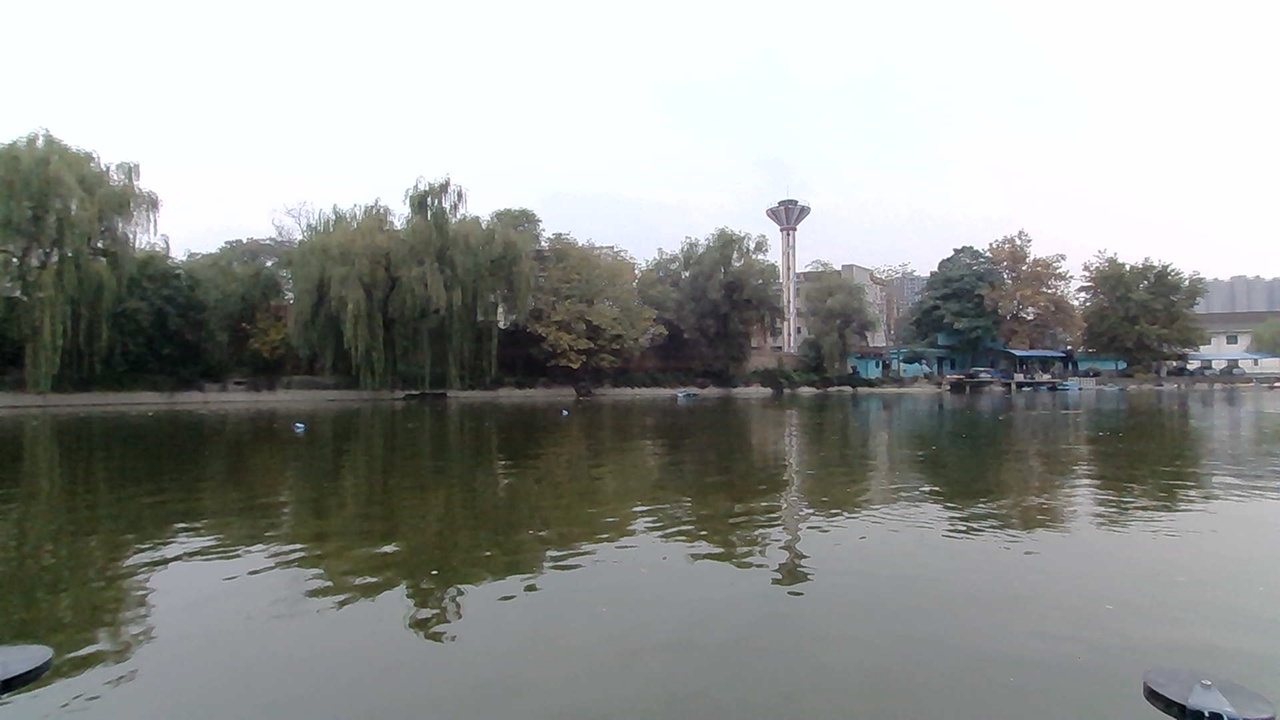bottle: (287, 418, 318, 436)
